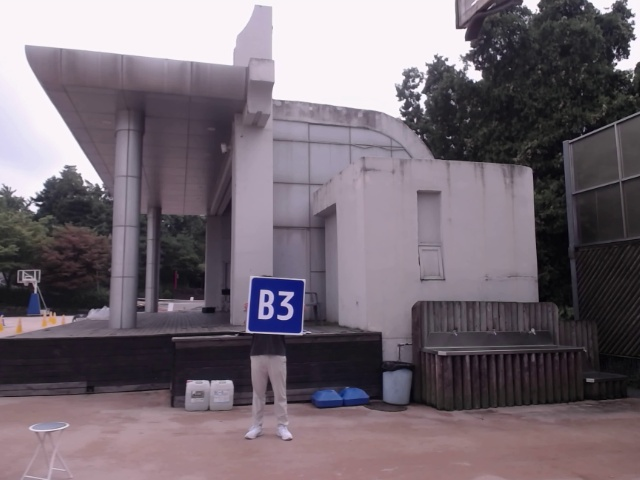delivery_b3: (250, 277, 304, 336)
